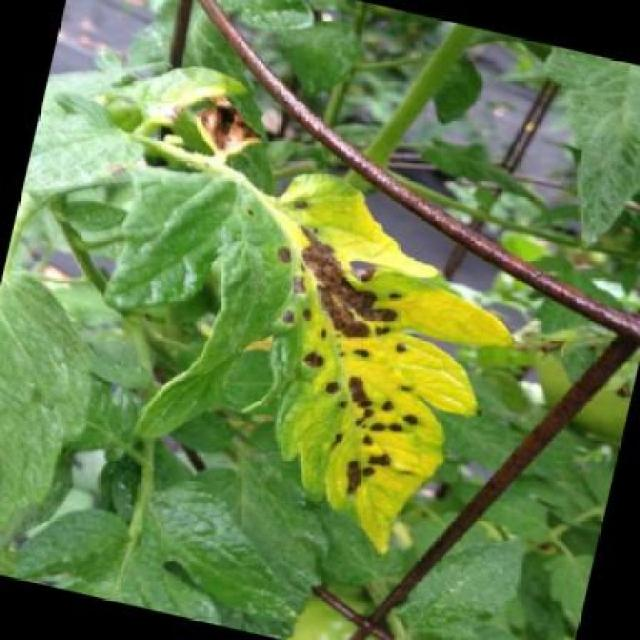Tomato leaf bacterial spot: (115, 143, 543, 554)
